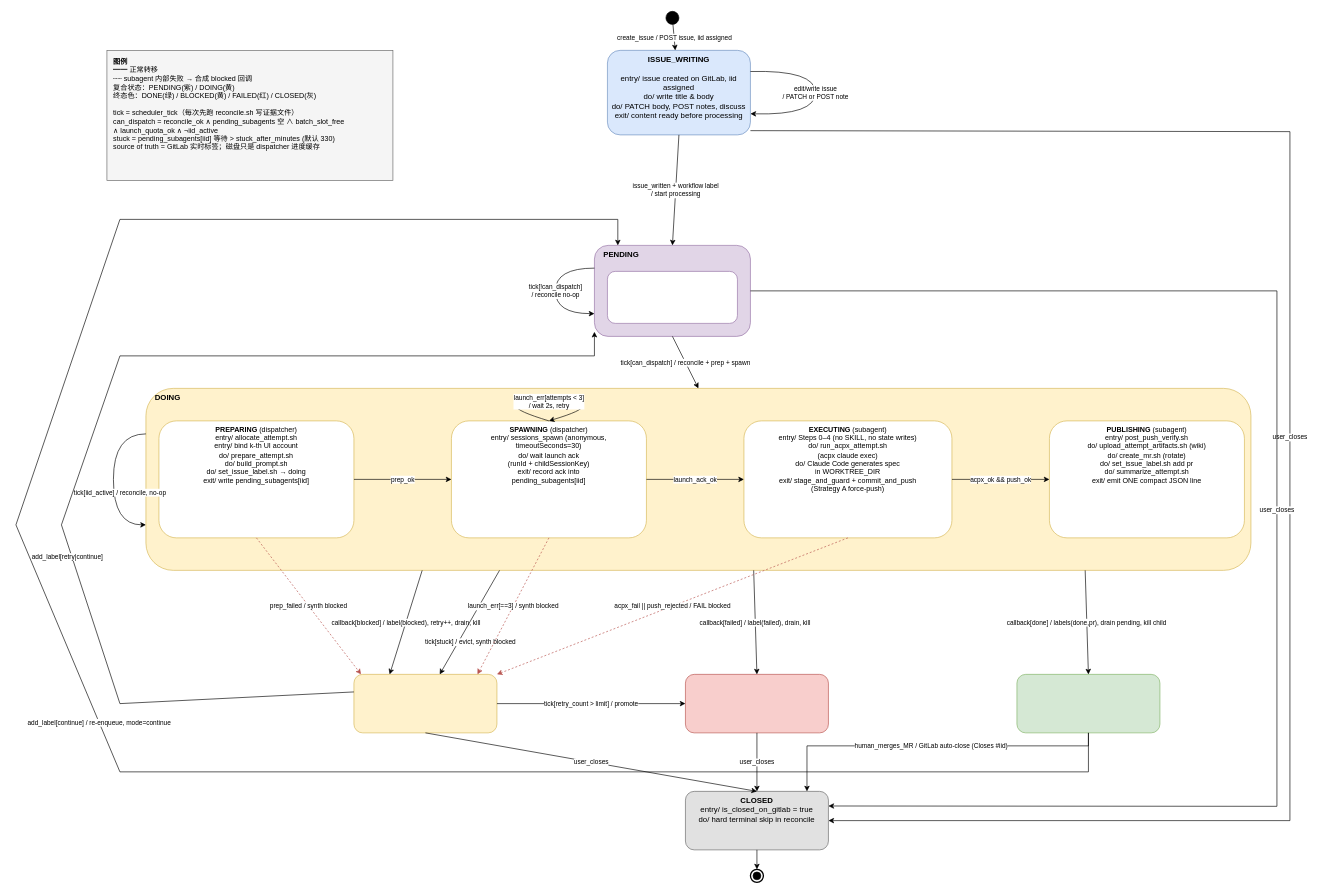
Some shapes in this 1318 by 894 pixel diagram are drawn without their labels. Each missing label, with the centre of its shape:
BLOCKED entry/ label = blocked, retry_count++ do/ retain LOG_DIR for triage: the point at 425,703
DONE entry/ labels = {done, pr}, MR open do/ wait for human reviewer: the point at 1088,703
FAILED entry/ label = failed do/ retain artifacts, never reschedule: the point at 756,703
Queued entry/ label ∈ {todo,new,continue,retry} do/ wait for next scheduler tick: the point at 672,297
